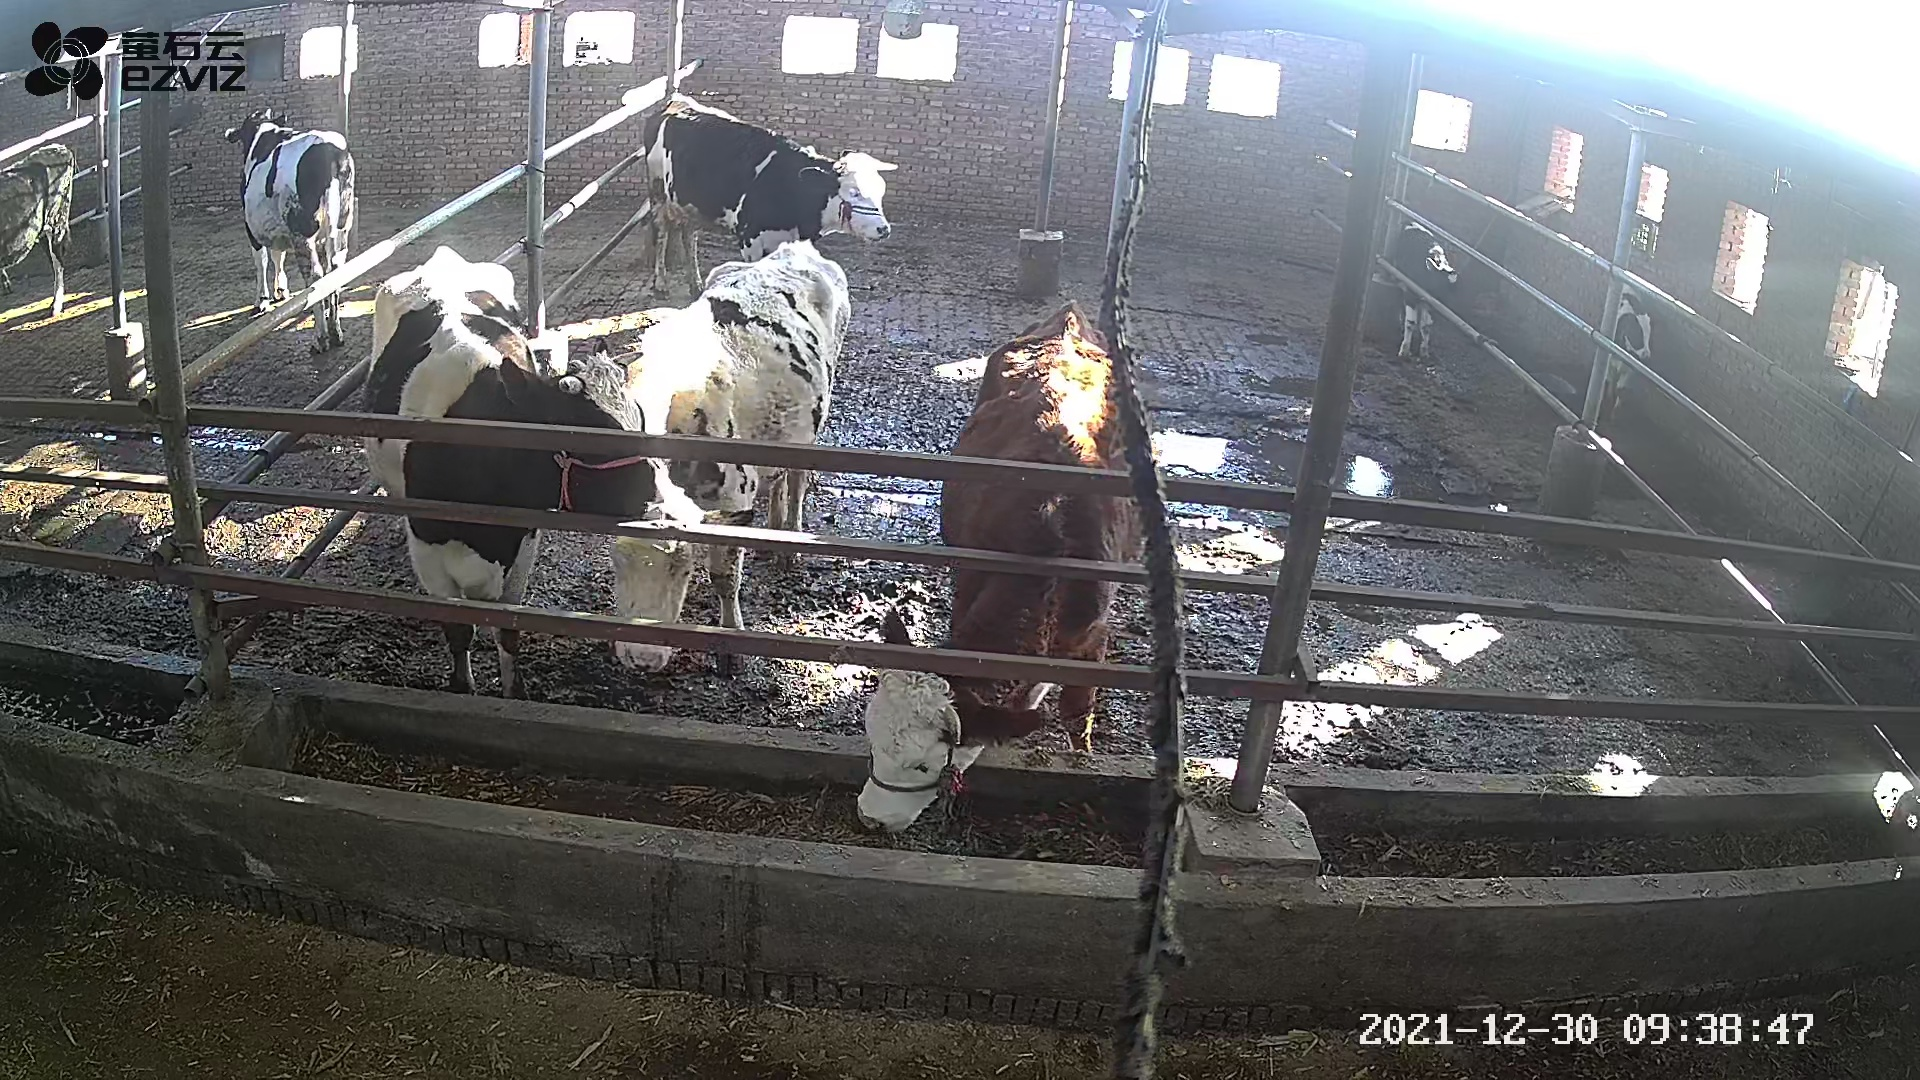cow: (356, 247, 707, 702), (856, 301, 1142, 837), (608, 237, 851, 673), (642, 90, 899, 302)
